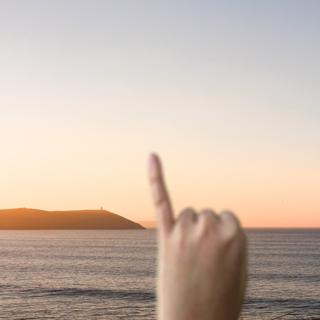Fine: (135, 146, 254, 318)
